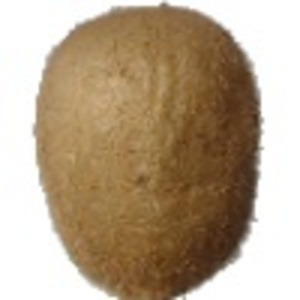kiwi: (33, 2, 263, 300)
